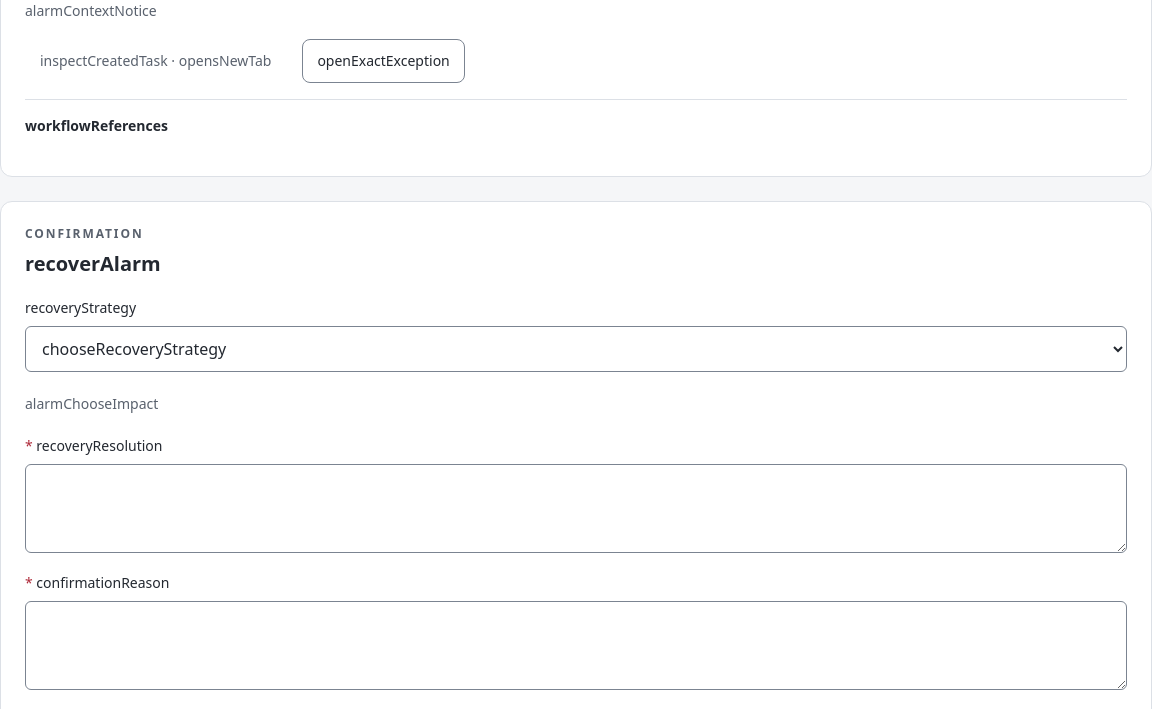
Test case: does not misreport an unknown recovery result as resumed or completed
(page scrolled)
Select "resumeTask" in the dropdown labelled "recoveryStrategy" at (576, 349), box [25,326,1127,372]
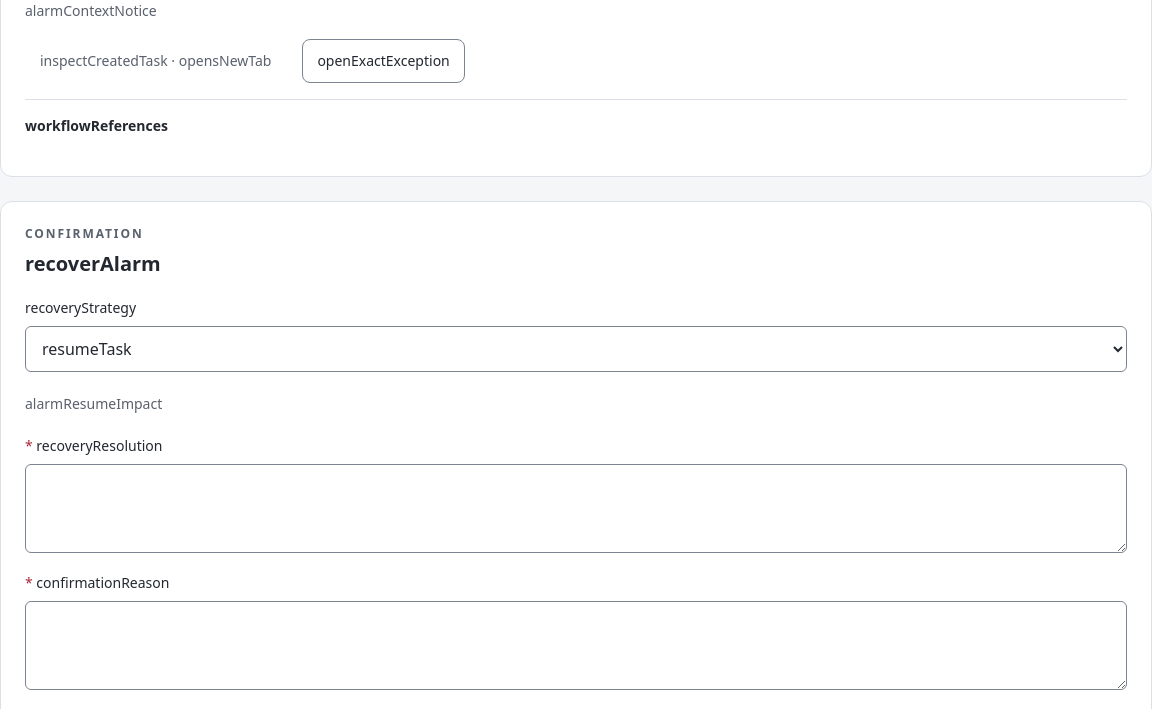
Result: the text "alarmResumeImpact" is shown at [25,394,162,413]
Type "Evidence reviewed" into the text box labelled "recoveryResolution" at (576, 509), box [25,464,1127,553]
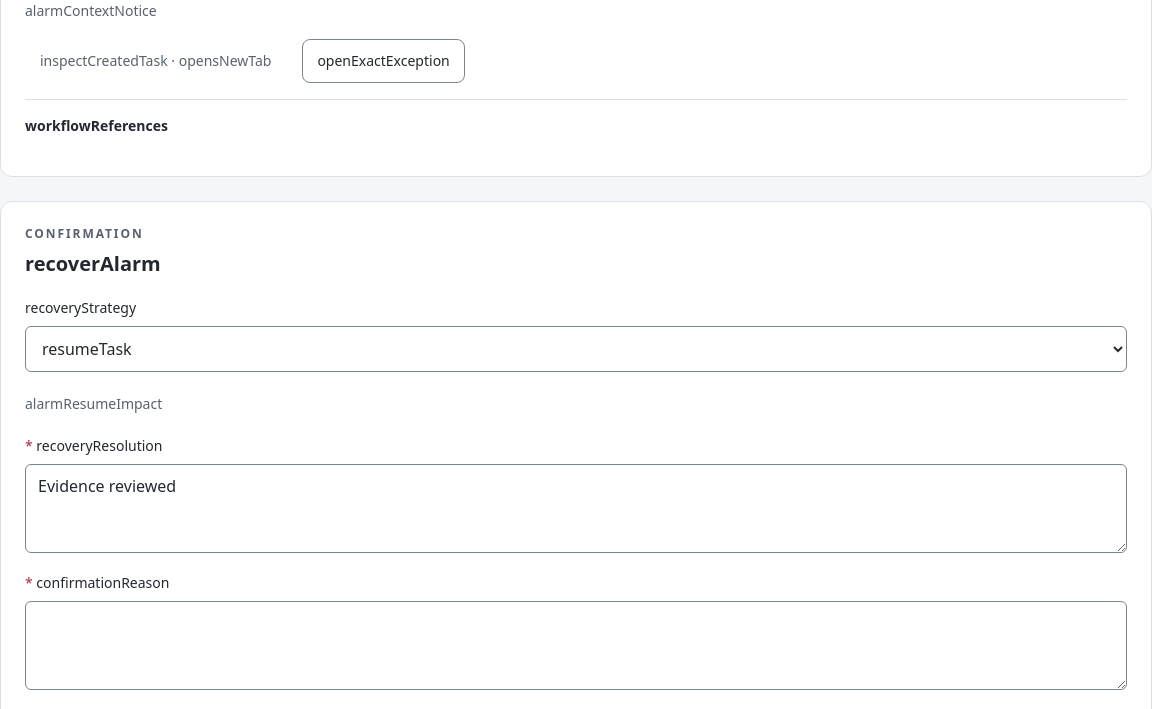
Type "Verified evidence" into the text box labelled "confirmationReason" at (576, 646), box [25,601,1127,690]
(page scrolled)
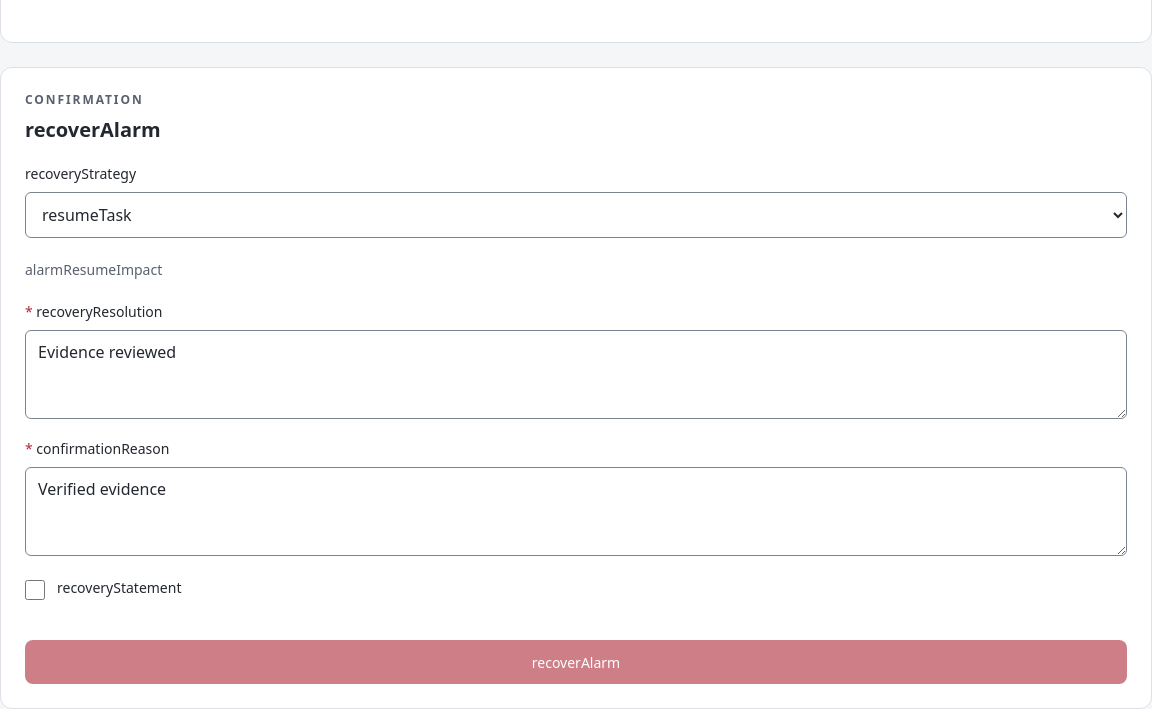
Click the checkbox at (35, 590), box [25,580,45,600]
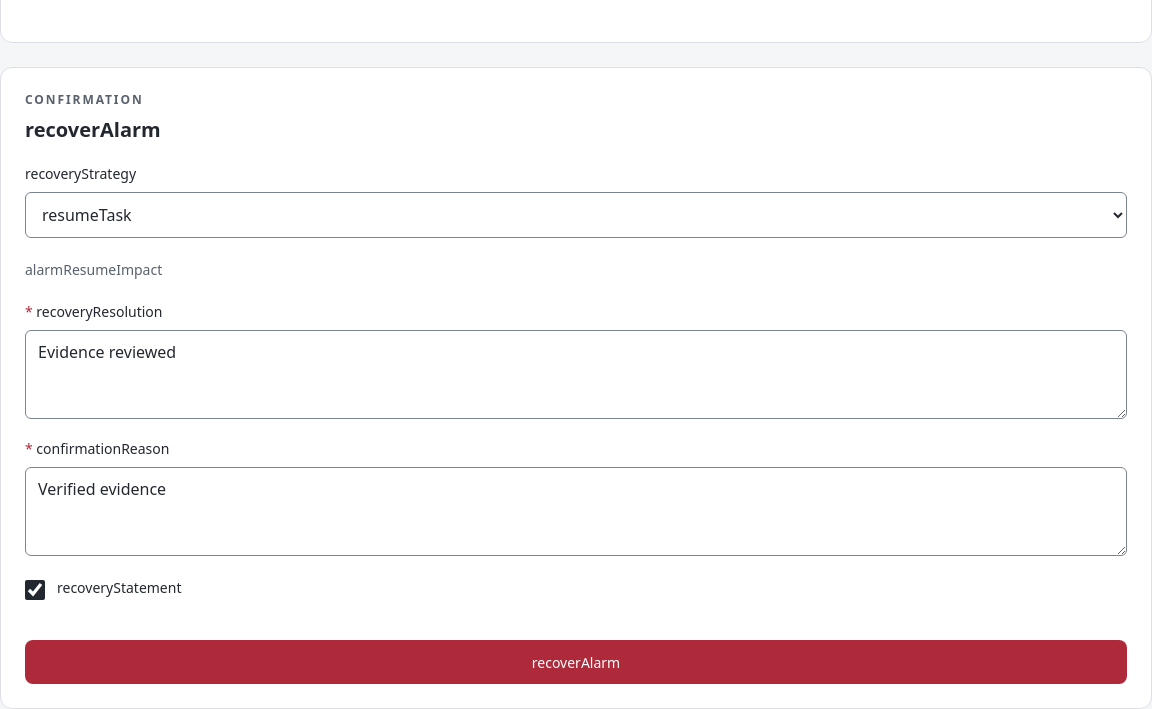
Click the button "recoverAlarm" at (576, 662), box [25,640,1127,684]
(page scrolled)
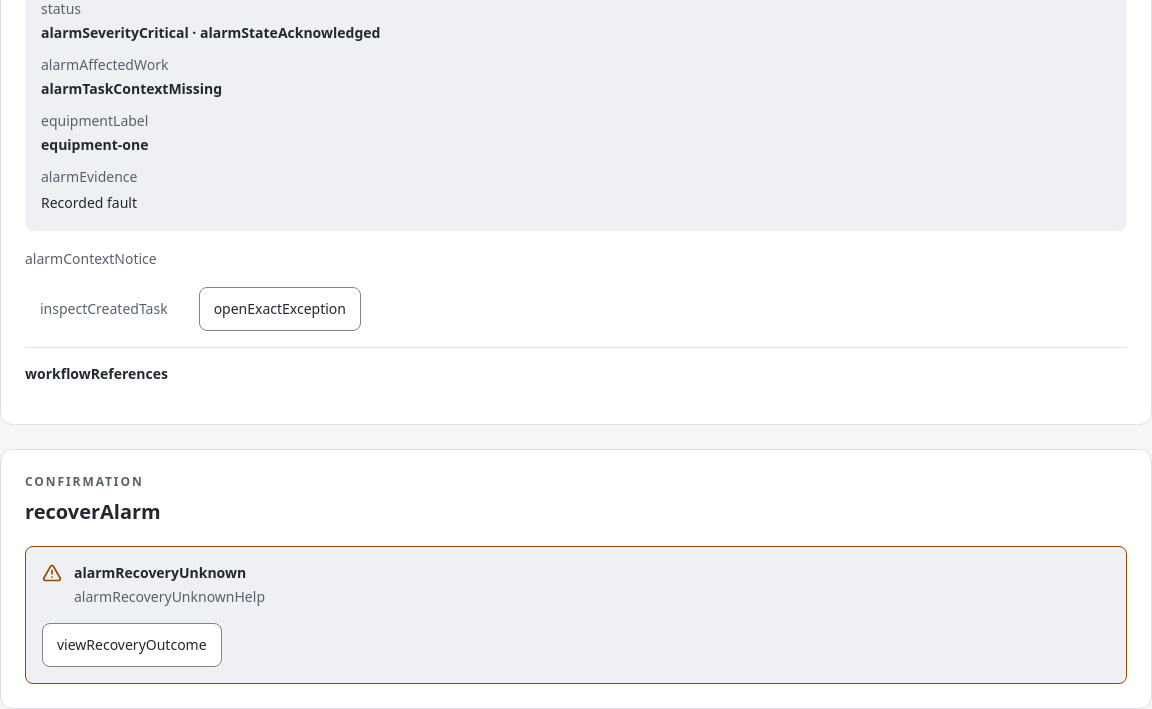
Result: the text "alarmRecoveryUnknown" is shown at [74,563,265,583]
Result: the text "alarmRecoveryUnknownHelp" is shown at [74,587,265,607]
